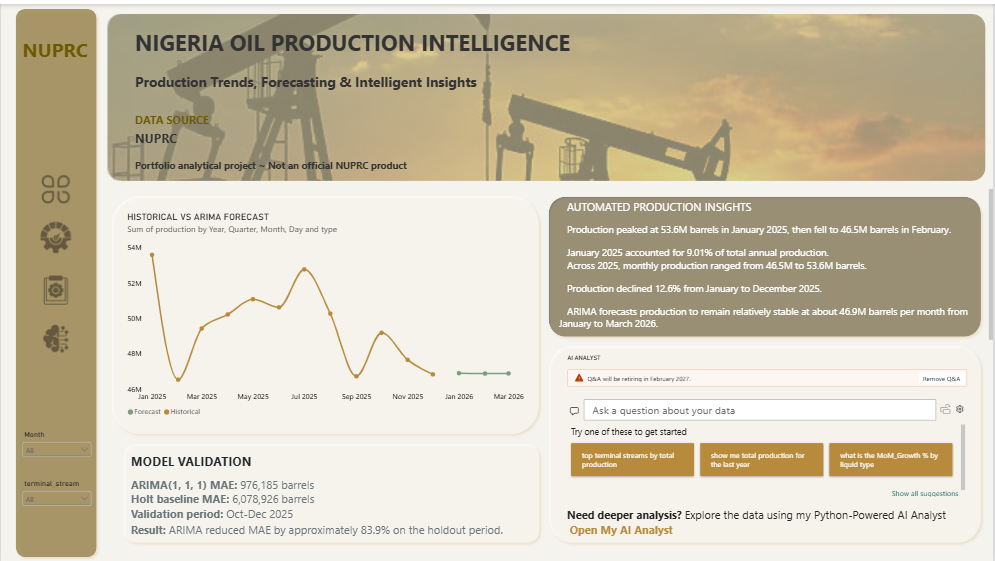

What the dashboard file says about the page in this screenshot:
{"tool":"powerbi","page":{"name":"AI & Forcasting","canvas":[1920,1080],"ordinal":3},"visuals":[{"type":"shape","box":[1050.2,652.7,854.6,399.7],"z":0},{"type":"shape","box":[1050.2,363.5,854.6,289.1],"z":1000},{"type":"shape","box":[227.5,842.5,822.5,210],"z":2000},{"type":"shape","box":[205,362.5,845,480],"z":3000},{"type":"shape","box":[206.2,19.1,1698.7,323.1],"z":4000},{"type":"lineChart","title":"HISTORICAL VS ARIMA FORECAST","fields":{"Category":["ForecastData.month.Variation.Date Hierarchy.Year","ForecastData.month.Variation.Date Hierarchy.Quarter","ForecastData.month.Variation.Date Hierarchy.Month","ForecastData.month.Variation.Date Hierarchy.Day"],"Y":["Sum(ForecastData.production)"],"Series":["ForecastData.type"]},"box":[227.5,387.5,800,432.5],"z":5000},{"type":"textbox","box":[252,869,495.4,53.1],"z":6000},{"type":"textbox","box":[252.5,915,772.5,120],"z":7000},{"type":"textbox","box":[1080,357.2,840,295],"z":8000},{"type":"qnaVisual","title":"AI ANALYST","box":[1080,663.3,805.7,310.4],"z":9000},{"type":"image","box":[205,20,1700,322.5],"z":10000},{"type":"textbox","box":[260,300,540,55.3],"z":11000},{"type":"textbox","box":[259.4,244.5,108.4,55.3],"z":12000},{"type":"textbox","box":[259.4,208.3,157.3,36.1],"z":13000},{"type":"textbox","box":[260,132.5,700,60],"z":14000},{"type":"textbox","box":[259.4,44.6,892,88.2],"z":15000},{"type":"shape","box":[20,0,175,1080],"z":16000},{"type":"actionButton","box":[1075.7,995,248.7,44.6],"z":17000},{"type":"textbox","box":[1094.9,973.7,812.1,34],"z":18000},{"type":"image","box":[75.9,327.5,60.7,62.9],"z":19000},{"type":"image","box":[75.9,407.7,60.7,86.7],"z":20000},{"type":"image","box":[75.9,516.1,60.7,73.7],"z":21000},{"type":"textbox","box":[36.9,62.9,136.6,71.6],"z":22000},{"type":"slicer","fields":{"Values":["DimDate.Month"]},"box":[36.9,824.1,143.1,78.1],"z":23000},{"type":"slicer","fields":{"Values":["FactProduction.terminal_stream"]},"box":[36.9,919.5,143.1,80.2],"z":24000},{"type":"image","box":[75.9,607.2,60.7,80.2],"z":25000}]}

Visuals, with their boxes on the page's 1920x1080 design canvas (x1, y1, x2, y2). These are canvas units, not pixel positions in the 995x561 screenshot, which may show the page scaled, cropped or inside an application window:
shape: BBox(1050, 653, 1905, 1052)
shape: BBox(1050, 364, 1905, 653)
shape: BBox(228, 842, 1050, 1052)
shape: BBox(205, 362, 1050, 842)
shape: BBox(206, 19, 1905, 342)
"HISTORICAL VS ARIMA FORECAST" lineChart: BBox(228, 388, 1028, 820)
textbox: BBox(252, 869, 747, 922)
textbox: BBox(252, 915, 1025, 1035)
textbox: BBox(1080, 357, 1920, 652)
"AI ANALYST" qnaVisual: BBox(1080, 663, 1886, 974)
image: BBox(205, 20, 1905, 342)
textbox: BBox(260, 300, 800, 355)
textbox: BBox(259, 244, 368, 300)
textbox: BBox(259, 208, 417, 244)
textbox: BBox(260, 132, 960, 192)
textbox: BBox(259, 45, 1151, 133)
shape: BBox(20, 0, 195, 1080)
actionButton: BBox(1076, 995, 1324, 1040)
textbox: BBox(1095, 974, 1907, 1008)
image: BBox(76, 328, 137, 390)
image: BBox(76, 408, 137, 494)
image: BBox(76, 516, 137, 590)
textbox: BBox(37, 63, 174, 134)
slicer - DimDate.Month: BBox(37, 824, 180, 902)
slicer - FactProduction.terminal_stream: BBox(37, 920, 180, 1000)
image: BBox(76, 607, 137, 687)
